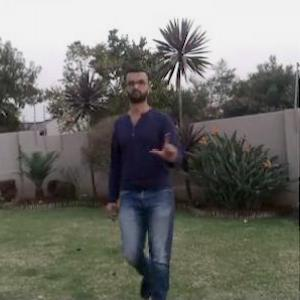land_hand: (151, 124, 182, 165)
